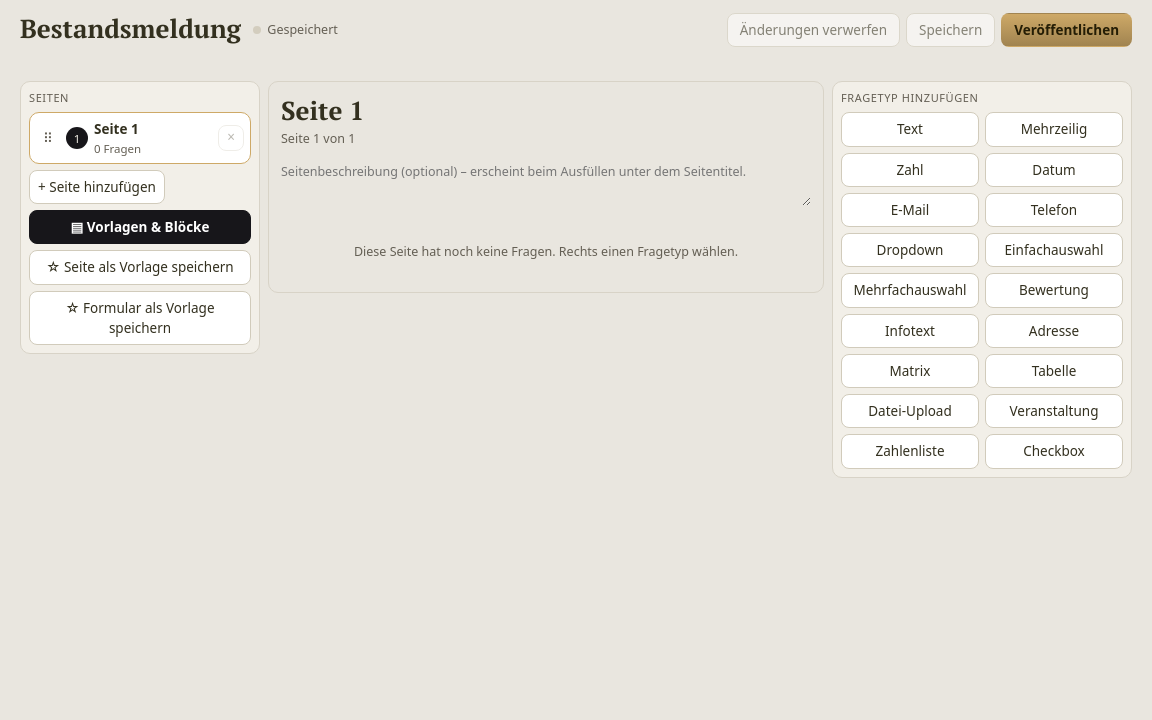
Vorlagen im Builder › listet die Vorlagen der Organisation in zwei Gruppen
expect the field named "Formularname" is shown: met, box left=20, top=12, right=241, bottom=48
What coordinates should you click on to do the following:
click the button "▤ Vorlagen & Blöcke"
I would click on:
 (140, 227)
Its box is left=29, top=210, right=251, bottom=244.
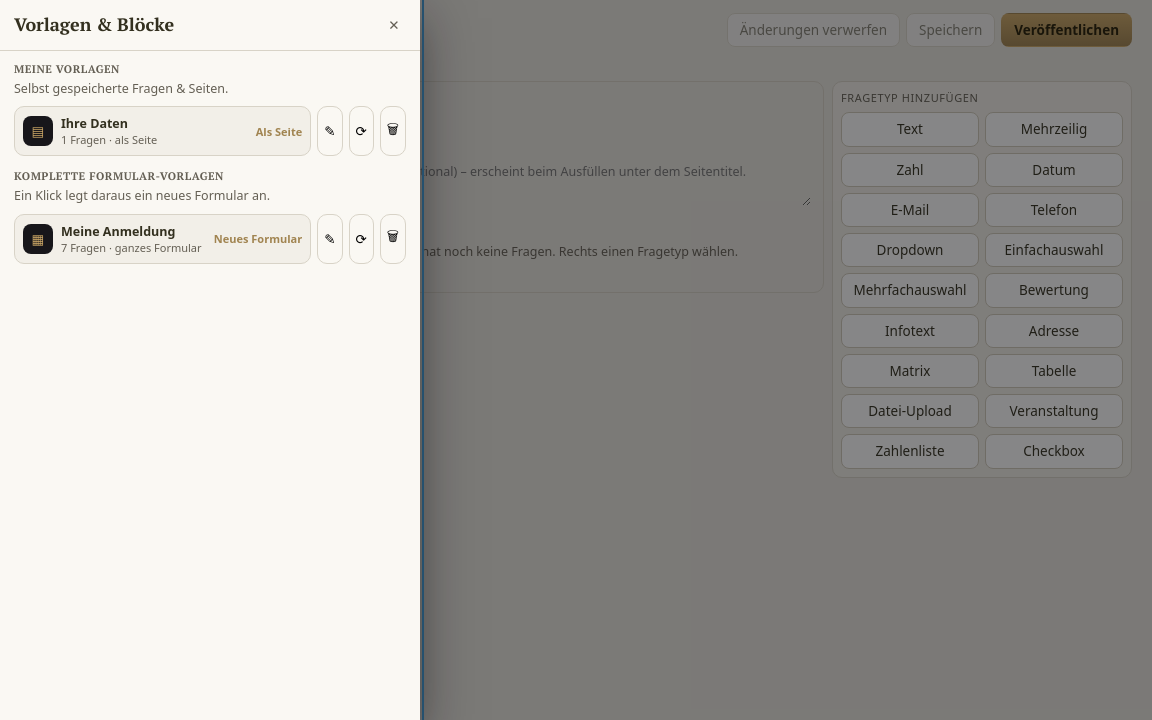
expect the text "Ihre Daten" is shown: met, box left=61, top=115, right=128, bottom=132
expect the element "Meine Vorlagen" is shown: met, box left=14, top=63, right=406, bottom=156
expect the element "Komplette Formular-Vorlagen" is shown: met, box left=14, top=170, right=406, bottom=264
